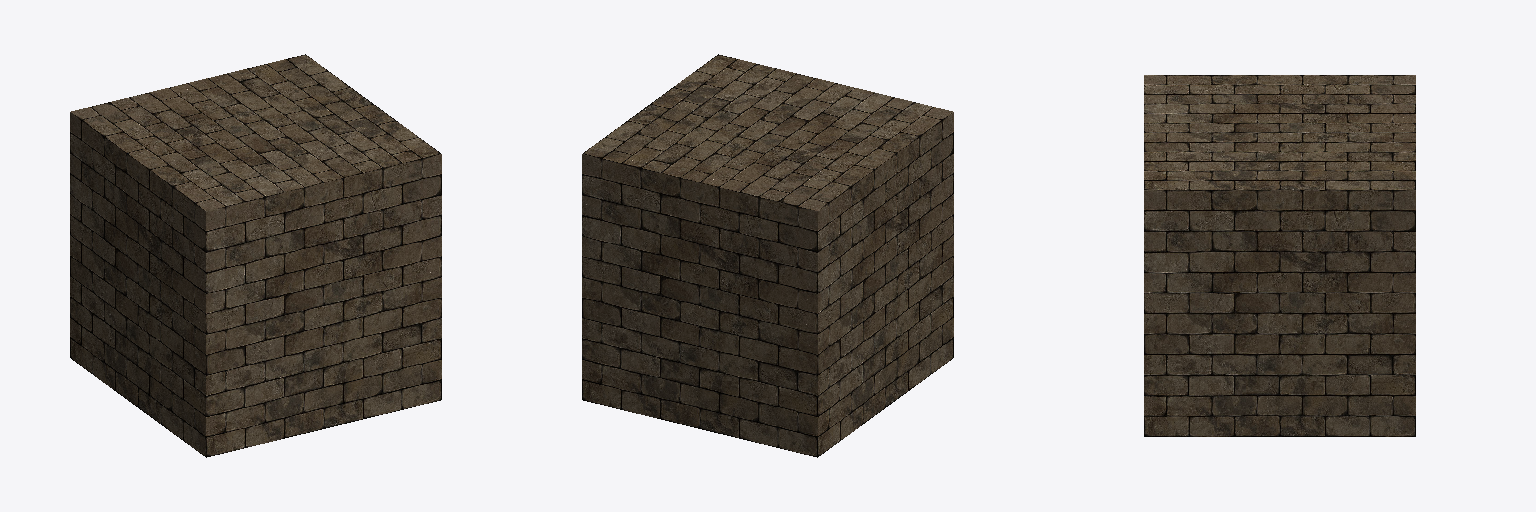
The picture shows the model from 3 angles: view 1: azimuth 30°, elevation 25°; view 2: azimuth 150°, elevation 25°; view 3: azimuth 270°, elevation 25°; orthographic projection.
Parts seen in each view (by area): view 1: Cube.001; view 2: Cube.001; view 3: Cube.001.
Boxes of the visible parts, box(x1,y1,x2,y2) form: Cube.001: box(70, 54, 441, 457); Cube.001: box(582, 54, 953, 457); Cube.001: box(1144, 75, 1415, 436).
Bounding box in the file's own units: 0.723 × 0.723 × 0.723.
Materials: 1 (1 with a texture image).